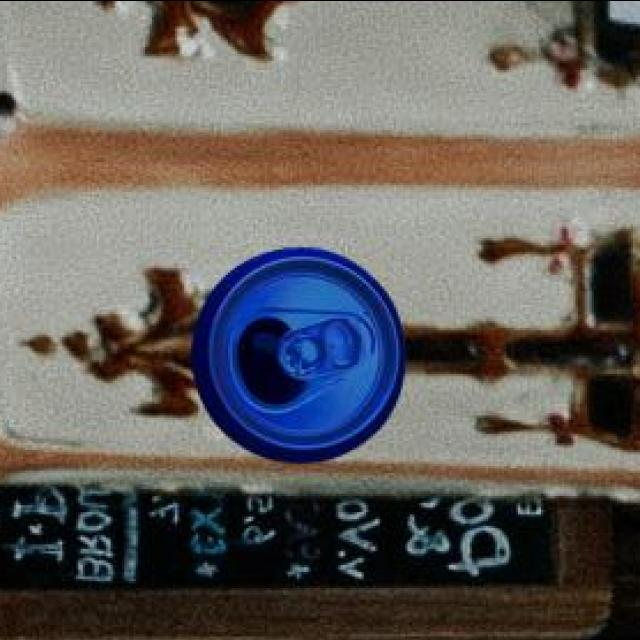logam: (195, 250, 409, 466)
